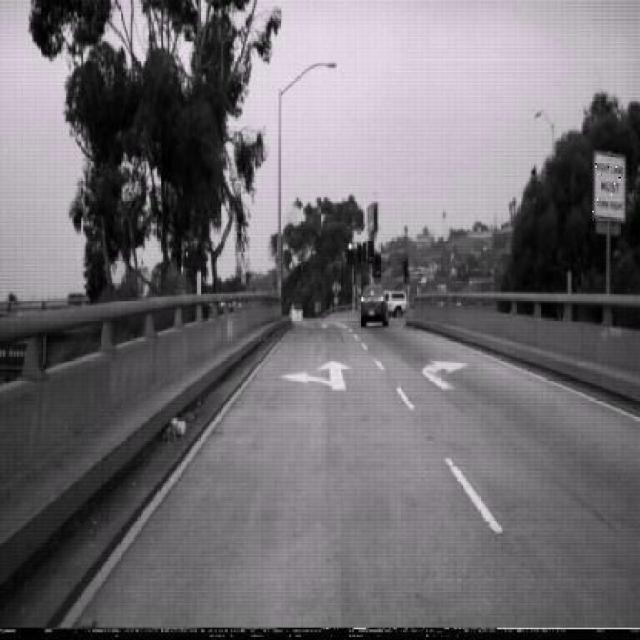rightLaneMustTurn: (592, 149, 626, 223)
